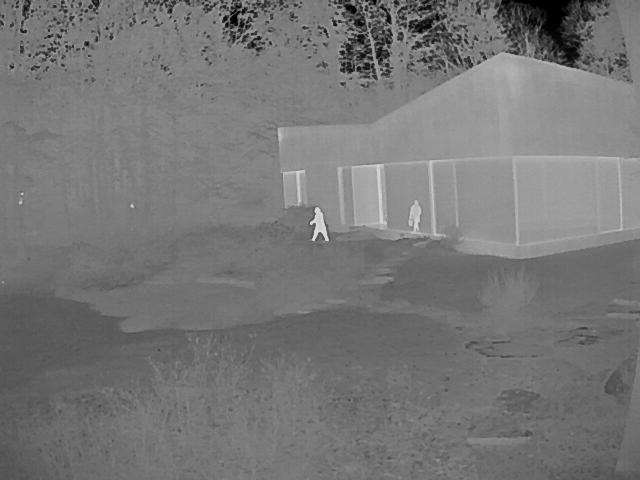person: (311, 207, 332, 241), (408, 199, 425, 233)
